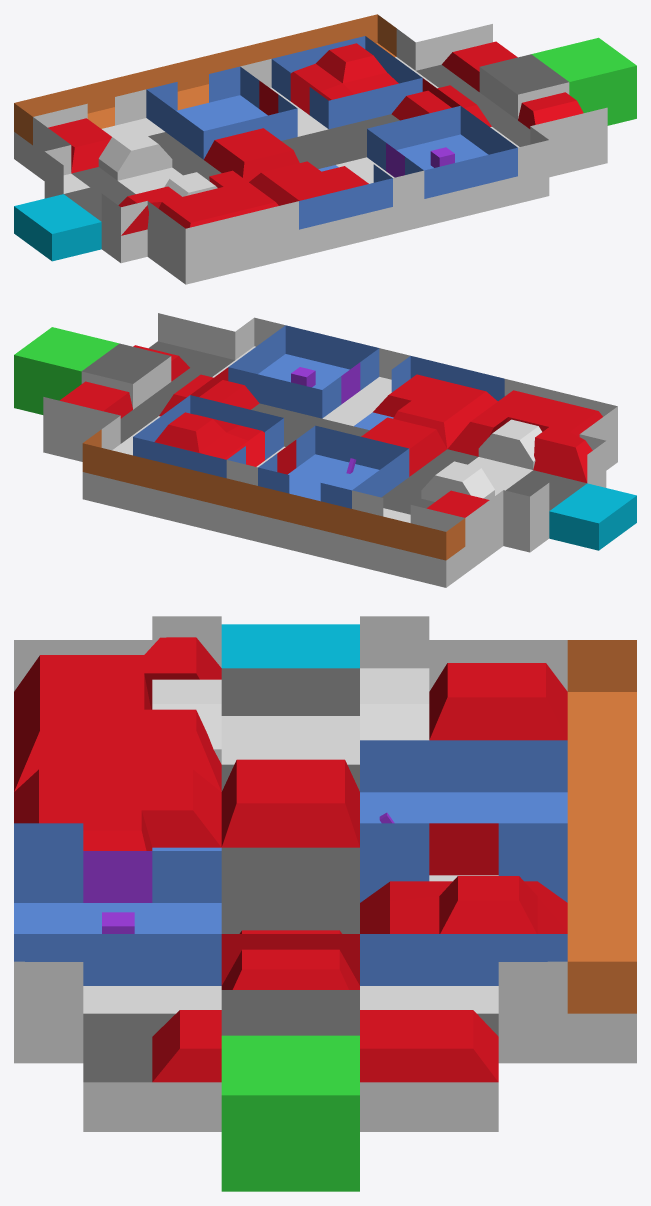
File: level3B.fbx
3 renders of one model, top to bottom at view 1: azimuth 30°, elevation 25°; view 2: azimuth 150°, elevation 25°; view 3: azimuth 270°, elevation 25°, orthographic. The views are drawn at different scales.
Parts seen in each view (by area): view 1: Cube.001; view 2: Cube.001; view 3: Cube.001.
Boxes of the visible parts, <box> form: Cube.001: <box>14,14,636,284</box>; Cube.001: <box>14,313,636,587</box>; Cube.001: <box>14,616,636,1191</box>.
Size of the model in its own units: 1371 by 143 by 697.
